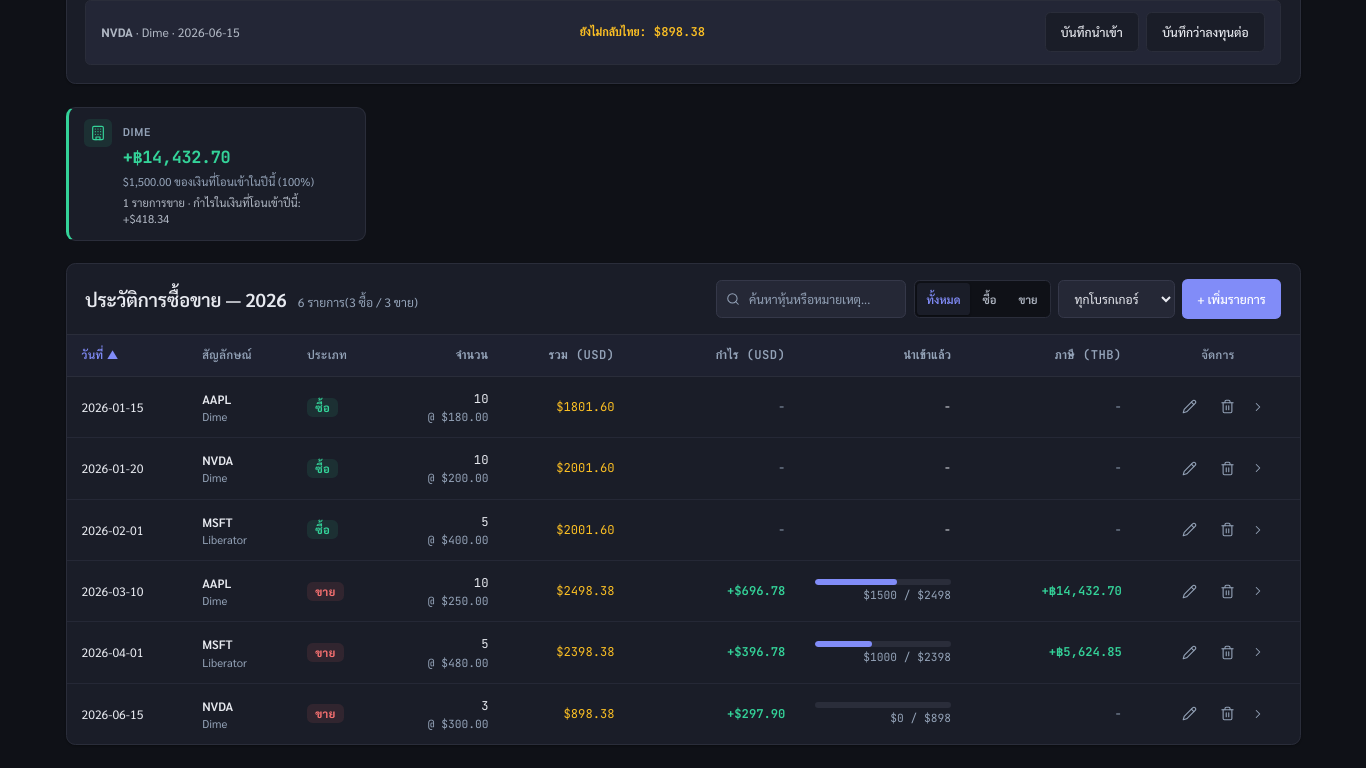
Test: edit-mode type safety guards › opens a SELL trade that has no remittances
The width and height of the screenshot is (1366, 768).
(page scrolled)
Click the button with class "btn-edit" in the row of "300.00" at (1189, 714), box [1171, 696, 1207, 732]
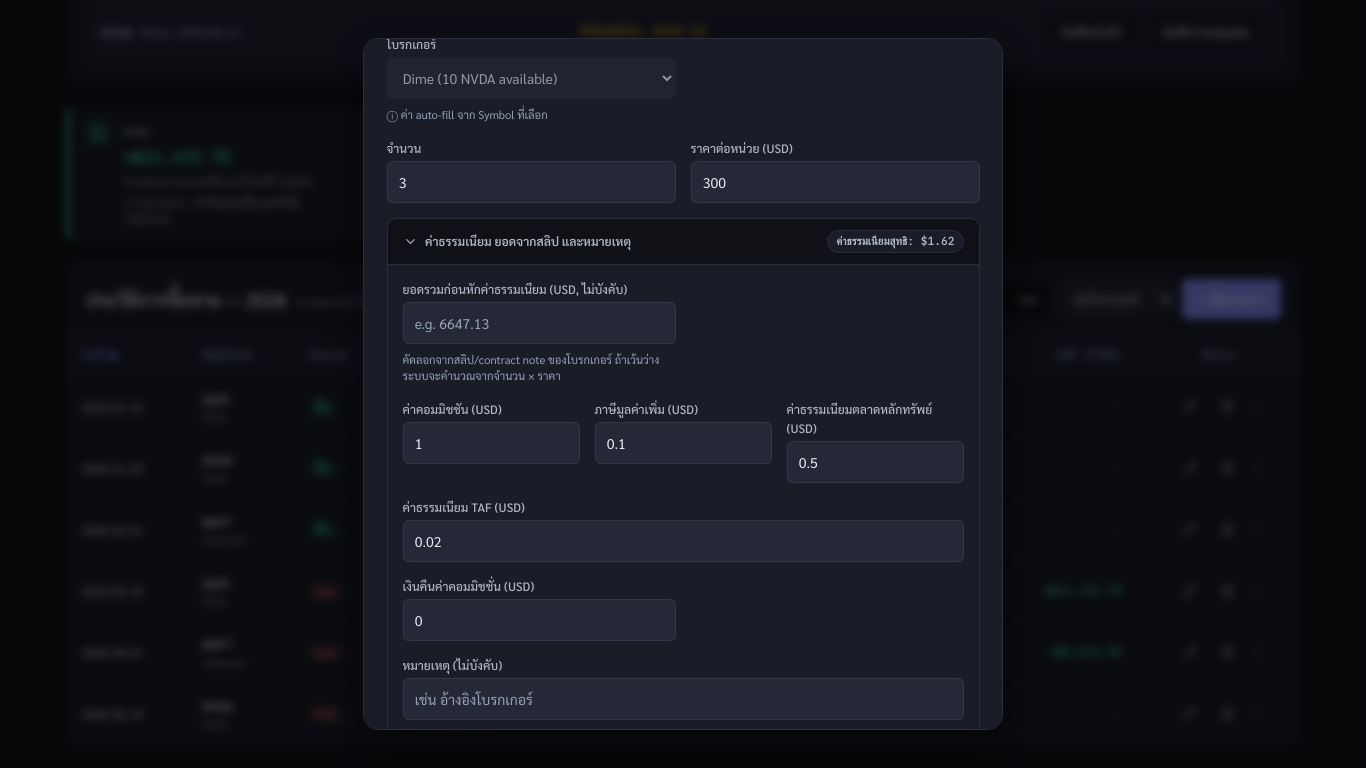
Expected: the form with class "trade-form" is shown, [364, 38, 1002, 730]
